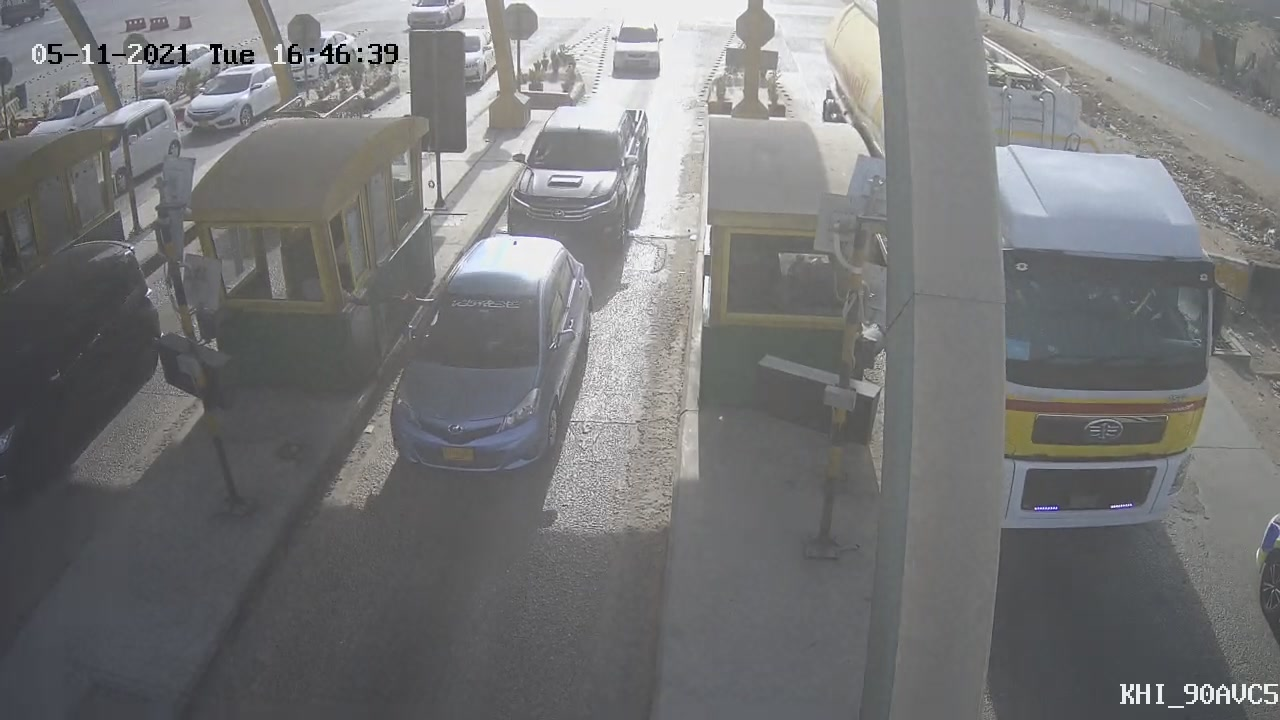F1: (366, 218, 614, 494), (494, 92, 669, 268)
